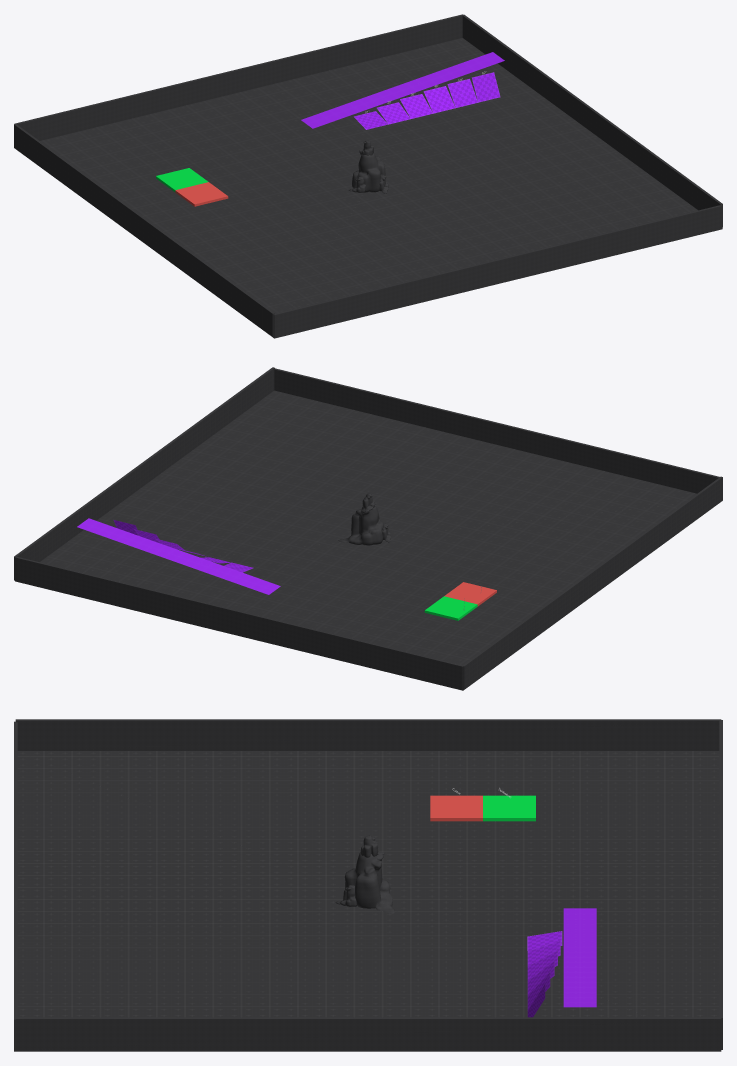
The picture shows the model from 3 angles, top to bottom: view 1: azimuth 30°, elevation 25°; view 2: azimuth 150°, elevation 25°; view 3: azimuth 270°, elevation 25°; orthographic projection. The views are drawn at different scales.
Parts seen in each view (by area): view 1: Floor, Wall, Wall.001, Wall.002, Wall.003, Slopes, Plane, Rock, CombatZone, ExplorationZone; view 2: Floor, Wall.001, Wall, Wall.002, Wall.003, Plane, Rock, ExplorationZone, Slopes, CombatZone; view 3: Floor, Wall.003, Wall.002, Plane, Slopes, Rock, CombatZone, ExplorationZone, Wall, Wall.001.
Boxes of the visible parts, x1,y1,x2,y2 form: Floor: [40, 38, 697, 313]; Wall: [273, 205, 722, 338]; Wall.001: [14, 14, 463, 140]; Wall.002: [14, 124, 274, 336]; Wall.003: [462, 14, 722, 226]; Slopes: [354, 72, 500, 129]; Plane: [301, 52, 504, 128]; Rock: [352, 153, 385, 192]; CombatZone: [175, 182, 228, 206]; ExplorationZone: [156, 168, 208, 192]; Floor: [15, 390, 696, 690]; Wall.001: [14, 556, 463, 689]; Wall: [274, 368, 719, 493]; Wall.002: [462, 476, 722, 689]; Wall.003: [14, 367, 274, 579]; Plane: [77, 518, 280, 594]; Rock: [338, 505, 382, 545]; ExplorationZone: [424, 596, 477, 620]; Slopes: [113, 520, 253, 572]; CombatZone: [444, 582, 496, 606]; Floor: [17, 751, 721, 1051]; Wall.003: [15, 1017, 721, 1050]; Wall.002: [15, 719, 721, 750]; Plane: [563, 908, 596, 1007]; Slopes: [527, 931, 562, 1017]; Rock: [344, 852, 394, 913]; CombatZone: [430, 795, 482, 821]; ExplorationZone: [483, 795, 535, 821]; Wall: [14, 721, 17, 1051]; Wall.001: [719, 720, 722, 1049].
Bounding box in the file's own units: 402 × 41.4 × 402.
6 materials, 4 textured.
